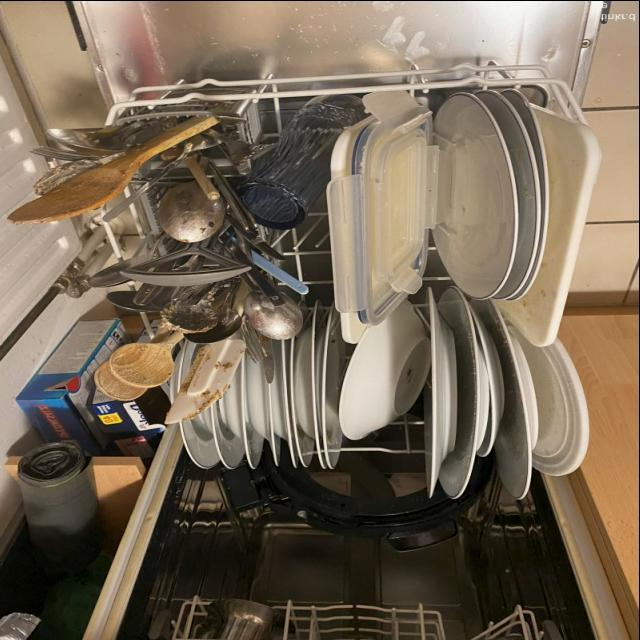clutery_bin: (57, 72, 259, 333)
